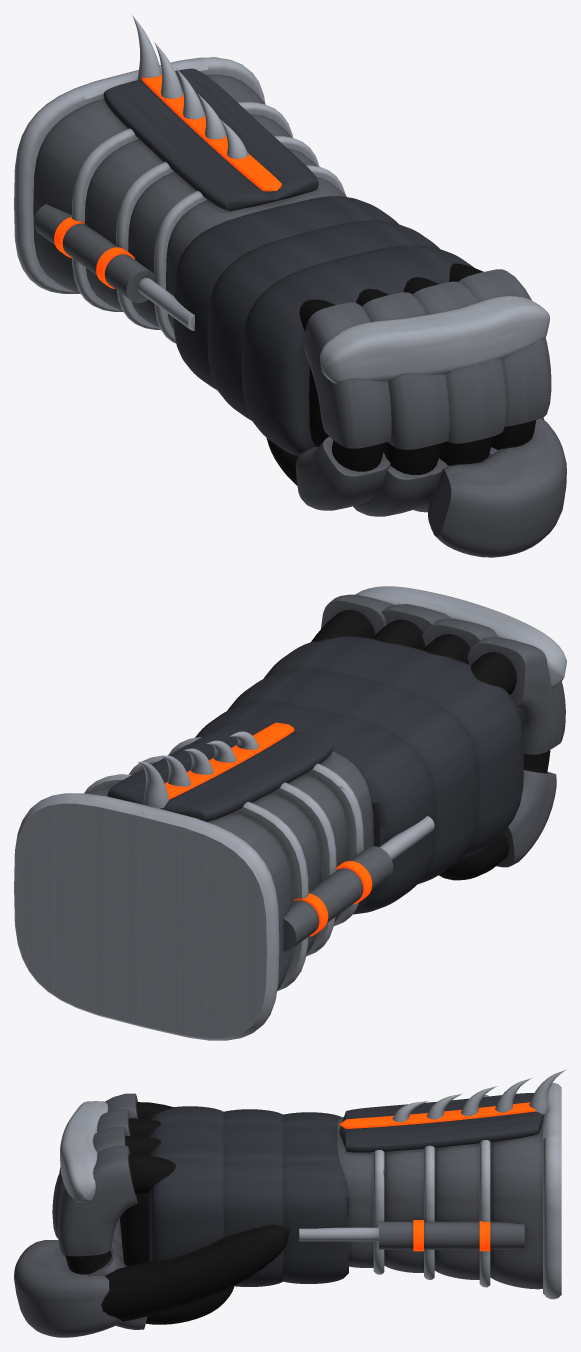
The model's file is gauntlet_R_hd.glb.
3 renders of one model, top to bottom at view 1: azimuth 30°, elevation 25°; view 2: azimuth 150°, elevation 25°; view 3: azimuth 270°, elevation 25°, orthographic. The views are drawn at different scales.
Parts seen in each view (by area): view 1: Weapon; view 2: Weapon; view 3: Weapon.
Boxes of the visible parts, left/top/right/bottom form: Weapon: left=14, top=15, right=566, bottom=557; Weapon: left=14, top=586, right=566, bottom=1040; Weapon: left=14, top=1069, right=566, bottom=1337.
Size of the model in its own units: 0.3657 by 0.3973 by 0.835.
Materials: 1 (1 with a texture image).
